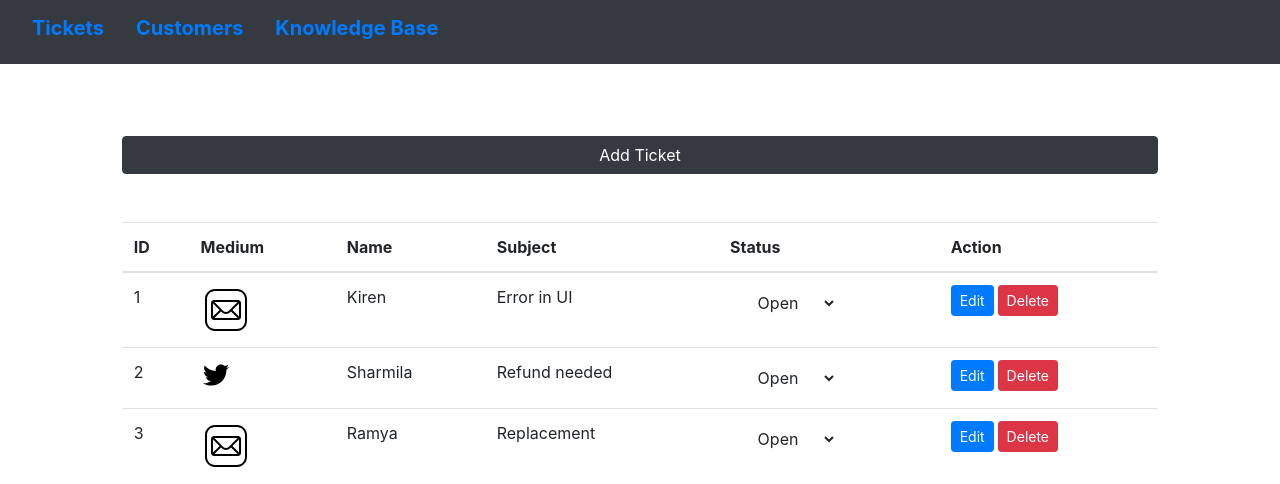
Test: desk learning app Home Test › should delete the tickets when the delete button is clicked
This screenshot has width=1280, height=484.
Click the button "Delete" in the row of "Kiren" at (1028,301), box [998,285,1058,316]
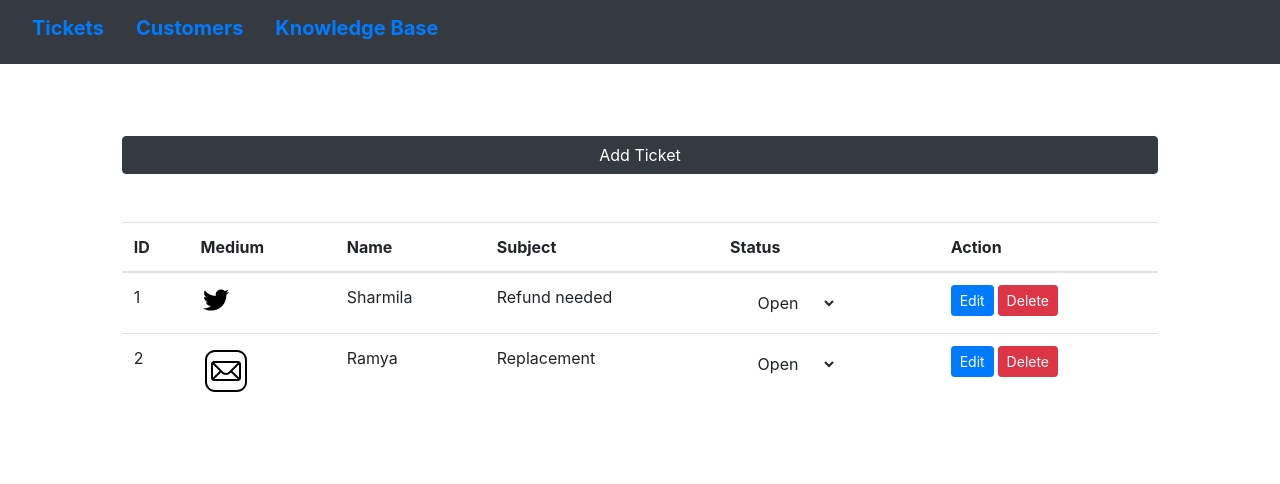
Click the button "Delete" in the row of "Sharmila" at (1028,301), box [998,285,1058,316]
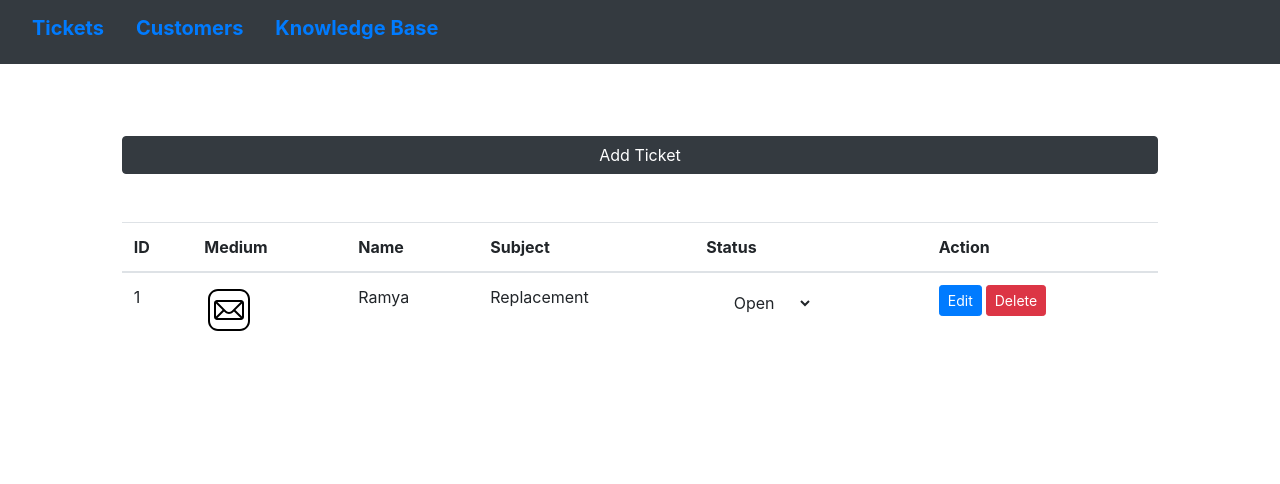
Click the button "Delete" at (1016,301), box [986,285,1046,316]
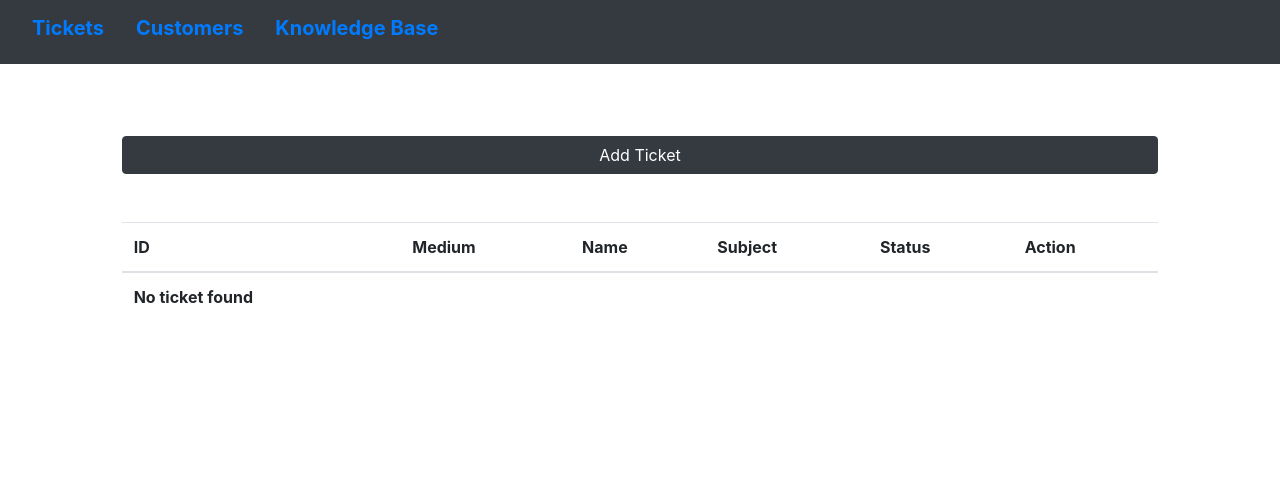
Expected: the column heading "No ticket found" is shown, [122,272,400,321]
